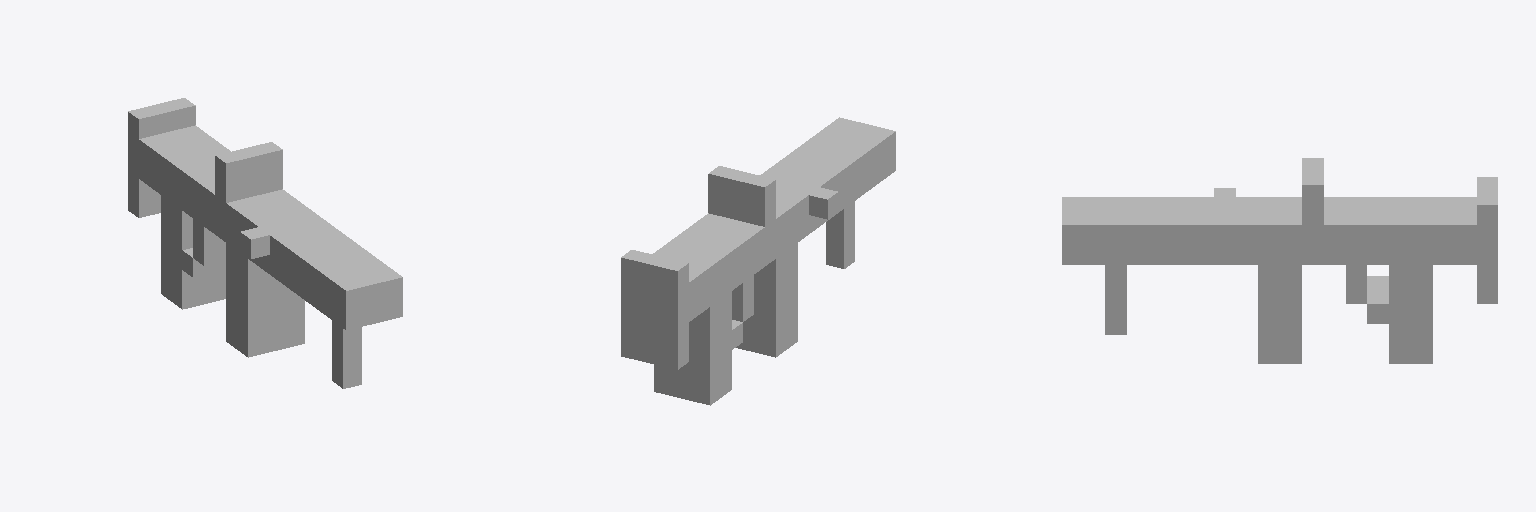
File: smg1.obj
3 views of the same model, side by side, from view 1: azimuth 30°, elevation 25°; view 2: azimuth 150°, elevation 25°; view 3: azimuth 270°, elevation 25° (orthographic).
Parts seen in each view (by area): view 1: cube; view 2: cube; view 3: cube.
Part boxes in pixels (bbox=[...]): cube: bbox=[128, 98, 402, 388]; cube: bbox=[621, 117, 895, 405]; cube: bbox=[1062, 158, 1497, 363].
Size of the model in its own units: 4 by 9 by 20.